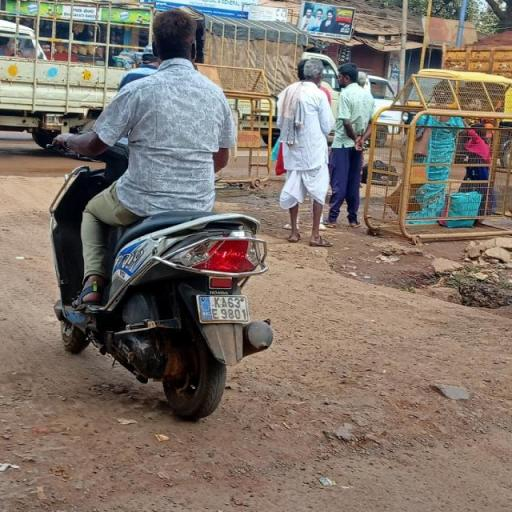bike: (32, 8, 289, 423)
numberplate: (197, 296, 251, 324)
withouthelmet: (150, 12, 200, 63)
